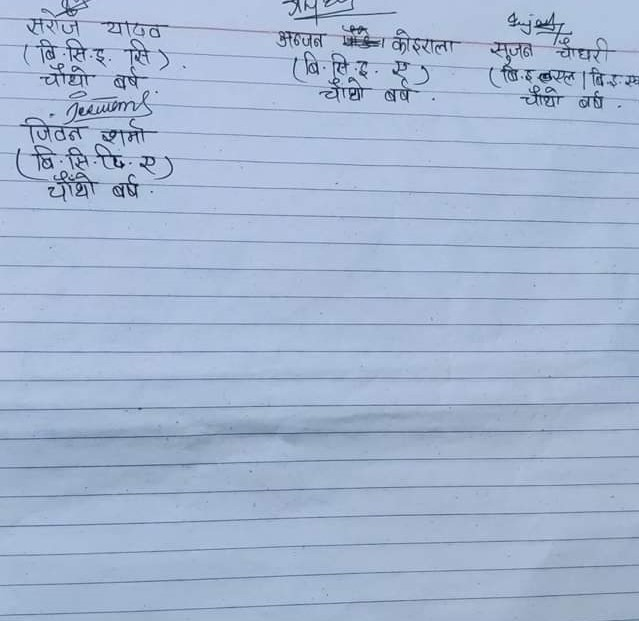text: (34, 37, 110, 65), (389, 28, 457, 58), (92, 143, 158, 173), (31, 141, 92, 173), (300, 51, 372, 78), (551, 35, 613, 65), (22, 116, 86, 143), (24, 8, 81, 38), (45, 173, 99, 202), (99, 18, 166, 40), (317, 75, 368, 103), (38, 63, 92, 89), (101, 116, 147, 146), (272, 27, 327, 51), (486, 39, 536, 65), (520, 85, 562, 110), (381, 76, 417, 103), (111, 63, 141, 92), (499, 62, 536, 85), (125, 38, 155, 66), (112, 174, 138, 203), (576, 88, 607, 112), (551, 65, 579, 87), (390, 56, 411, 80)
